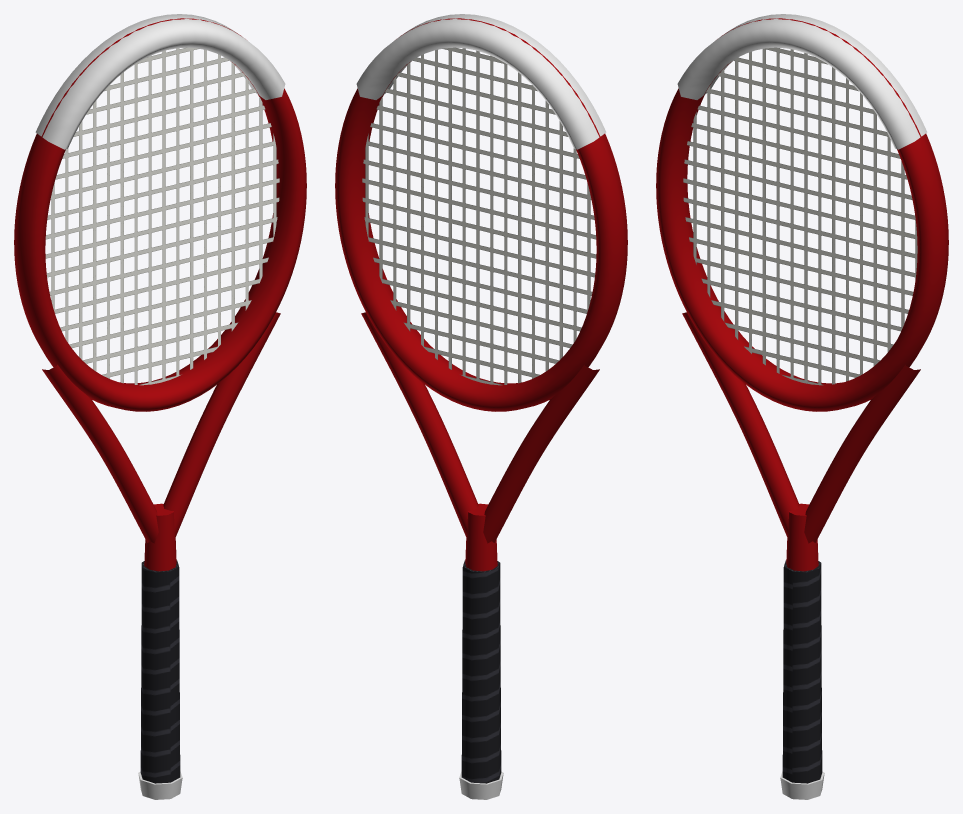
File: racket.glb
3 views of the same model, side by side, from view 1: azimuth 30°, elevation 25°; view 2: azimuth 150°, elevation 25°; view 3: azimuth 330°, elevation 25° (orthographic).
Visible parts, largest first — view 1: frame, strings, bumper, grip, butt; view 2: frame, strings, bumper, grip, butt; view 3: frame, strings, bumper, grip, butt.
Part boxes in pixels (box(x1,y1,x2,y2)): frame: box(14, 18, 306, 571); strings: box(45, 47, 279, 385); bumper: box(35, 14, 285, 149); grip: box(140, 560, 180, 783); butt: box(138, 771, 182, 799); frame: box(335, 18, 627, 571); strings: box(362, 47, 596, 385); bumper: box(356, 14, 606, 149); grip: box(461, 560, 501, 783); butt: box(459, 771, 503, 799); frame: box(656, 18, 948, 571); strings: box(683, 47, 917, 385); bumper: box(677, 14, 927, 149); grip: box(782, 560, 822, 783); butt: box(780, 771, 824, 799).
Bounding box in the file's own units: 0.272 × 0.7035 × 0.0425.
4 materials, 2 textured.
